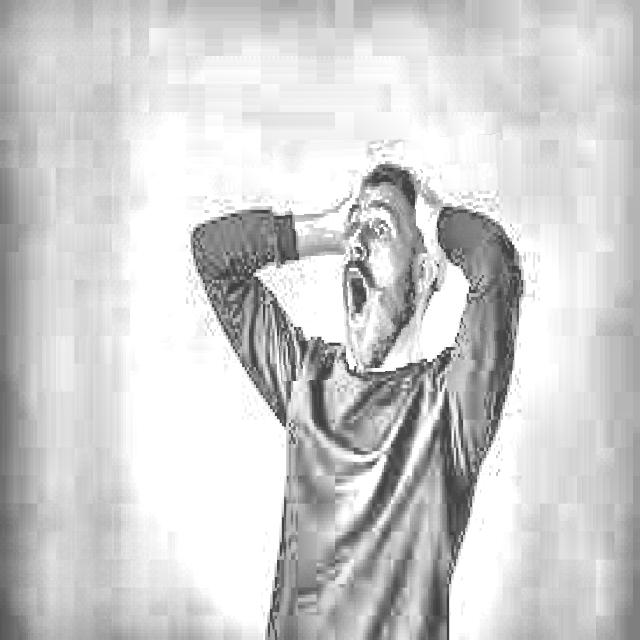surprise: (272, 136, 510, 379)
